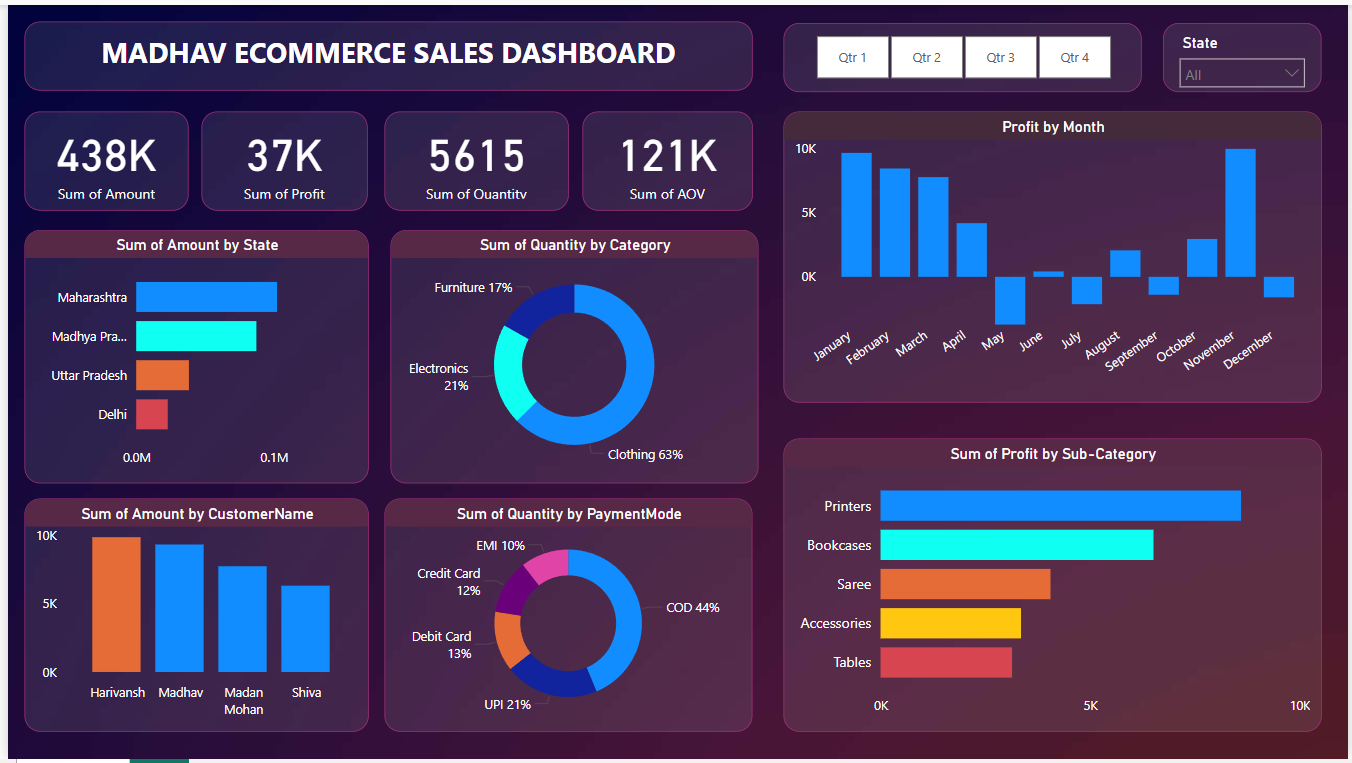

The dashboard page shown, as its layout file describes it:
{"tool":"powerbi","page":{"name":"Page 1","canvas":[1280,720],"ordinal":0},"visuals":[{"type":"textbox","box":[15.1,15.1,695.4,66.1],"z":0},{"type":"columnChart","title":"Profit by Month","fields":{"Y":["Sum(Details.Profit)"],"Category":["Orders.Order Date.Variation.Date Hierarchy.Month"]},"box":[740.8,102,514,277.8],"z":1000},{"type":"barChart","fields":{"Y":["Sum(Details.Profit)"],"Category":["Details.Sub-Category"]},"box":[740.8,413.9,514,279.7],"z":2000},{"type":"donutChart","fields":{"Category":["Details.Category"],"Y":["Sum(Details.Quantity)"]},"box":[364.7,215.4,351.5,241.9],"z":3000},{"type":"donutChart","fields":{"Y":["Sum(Details.Quantity)"],"Category":["Details.PaymentMode"]},"box":[359.1,470.6,351.5,223],"z":4000},{"type":"card","fields":{"Values":["Sum(Details.Amount)"]},"box":[15.1,102,156.9,94.5],"z":5000},{"type":"card","fields":{"Values":["Sum(Details.Profit)"]},"box":[185.2,102,158.7,94.5],"z":6000},{"type":"card","fields":{"Values":["Sum(Details.Quantity)"]},"box":[359.1,102,175.7,94.5],"z":7000},{"type":"card","fields":{"Values":["Sum(Details.AOV)"]},"box":[548,102,162.5,94.5],"z":8000},{"type":"barChart","fields":{"Category":["Orders.State"],"Y":["Sum(Details.Amount)"]},"box":[15.1,215.4,328.8,241.9],"z":9000},{"type":"columnChart","fields":{"Category":["Orders.CustomerName"],"Y":["Sum(Details.Amount)"]},"box":[15.1,470.6,328.8,223],"z":10000},{"type":"slicer","fields":{"Values":["Orders.Order Date.Variation.Date Hierarchy.Quarter"]},"box":[740.8,17,342,66.1],"z":11000},{"type":"slicer","fields":{"Values":["Orders.State"]},"box":[1103.6,17,151.2,66.1],"z":12000}]}

Visuals, with their boxes in screenshot pixels (x1, y1, x2, y2), scaled from the page's 1280x720 canvas onto the 1352x763 screenshot:
textbox: bbox(16, 16, 750, 86)
"Profit by Month" columnChart: bbox(782, 108, 1325, 402)
barChart - Sum(Details.Profit) x Details.Sub-Category: bbox(782, 439, 1325, 735)
donutChart - Details.Category x Sum(Details.Quantity): bbox(385, 228, 756, 485)
donutChart - Sum(Details.Quantity) x Details.PaymentMode: bbox(379, 499, 751, 735)
card - Sum(Details.Amount): bbox(16, 108, 182, 208)
card - Sum(Details.Profit): bbox(196, 108, 363, 208)
card - Sum(Details.Quantity): bbox(379, 108, 565, 208)
card - Sum(Details.AOV): bbox(579, 108, 750, 208)
barChart - Orders.State x Sum(Details.Amount): bbox(16, 228, 363, 485)
columnChart - Orders.CustomerName x Sum(Details.Amount): bbox(16, 499, 363, 735)
slicer - Orders.Order Date.Variation.Date Hierarchy.Quarter: bbox(782, 18, 1144, 88)
slicer - Orders.State: bbox(1166, 18, 1325, 88)
